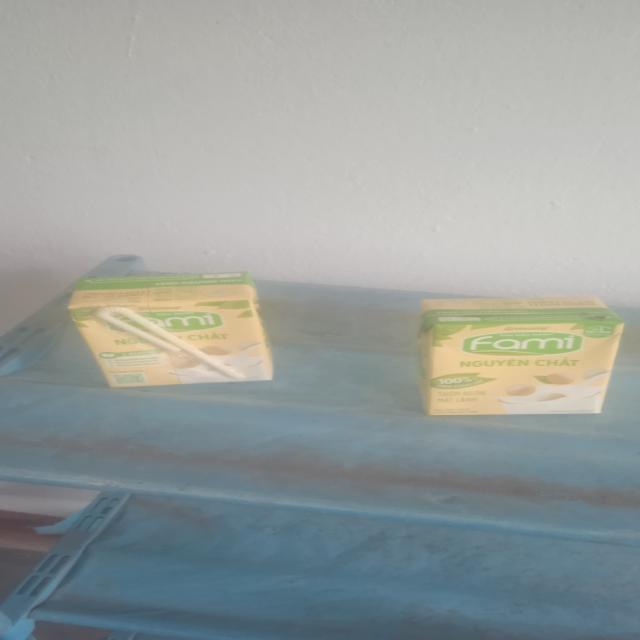Fami: (415, 295, 625, 419), (74, 277, 278, 391)
